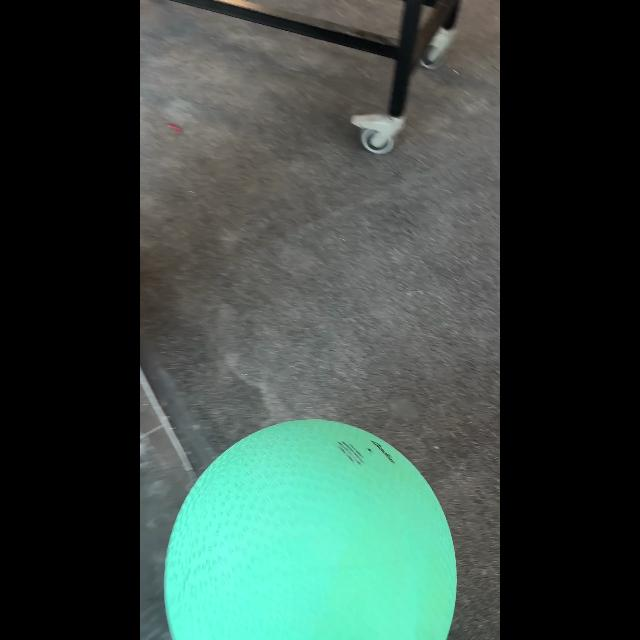ALGAE: (162, 418, 458, 638)
